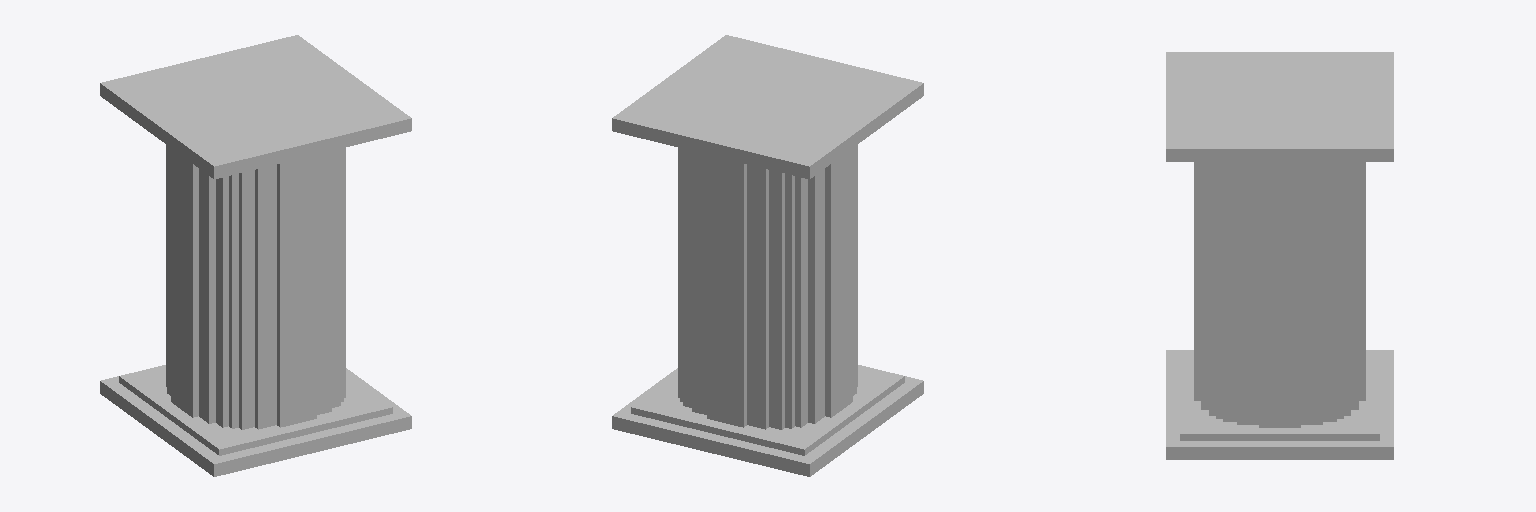
Rendered from VD_obstacle1.obj.
The picture shows the model from 3 angles: view 1: azimuth 30°, elevation 25°; view 2: azimuth 150°, elevation 25°; view 3: azimuth 270°, elevation 25°; orthographic projection.
Parts seen in each view (by area): view 1: cube; view 2: cube; view 3: cube.
Boxes of the visible parts, <box> form: cube: <box>100,35,411,476</box>; cube: <box>612,35,923,476</box>; cube: <box>1166,52,1393,459</box>.
Bounding box in the file's own units: 2 × 3 × 2.